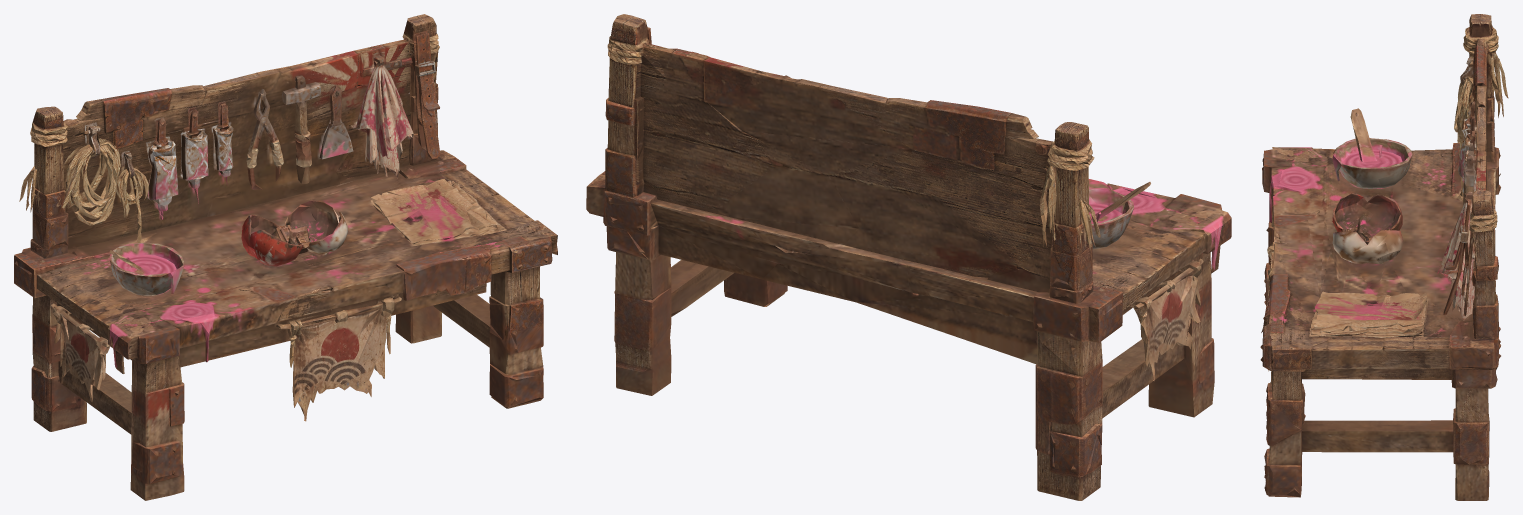
The model's file is capsule-bench.glb.
3 views of the same model, side by side, from view 1: azimuth 30°, elevation 25°; view 2: azimuth 150°, elevation 25°; view 3: azimuth 270°, elevation 25° (orthographic). The views are drawn at different scales.
Parts seen in each view (by area): view 1: output_unwrapped; view 2: output_unwrapped; view 3: output_unwrapped.
Boxes of the visible parts, x1,y1,x2,y2 form: output_unwrapped: (14, 14, 557, 500); output_unwrapped: (586, 14, 1231, 500); output_unwrapped: (1260, 14, 1508, 500).
Size of the model in its own units: 1.76 by 1.2 by 0.8937.
1 material, 1 textured.
